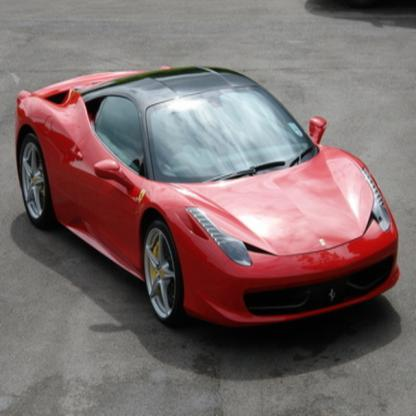Vehicle: (14, 56, 403, 343)
